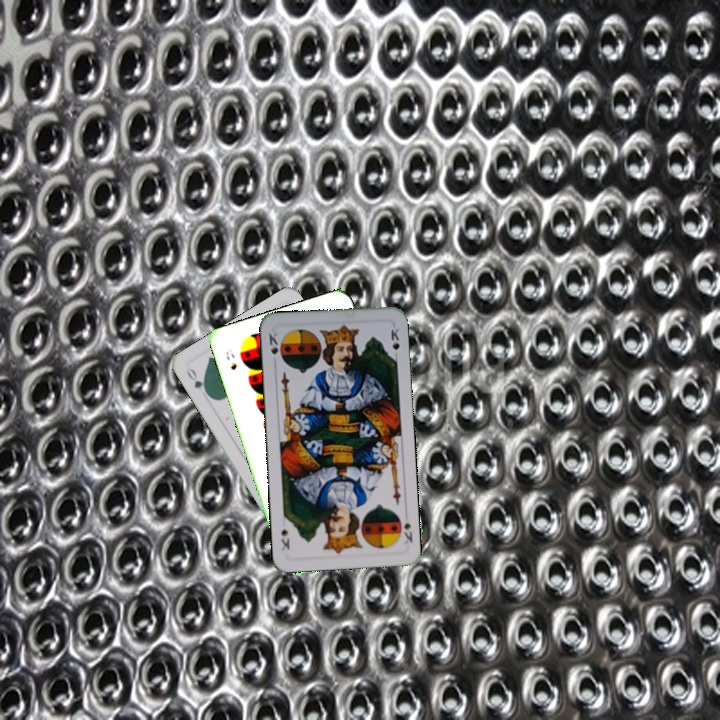GO: (182, 363, 212, 398)
S8: (222, 345, 240, 373)
SK: (265, 328, 281, 357), (399, 518, 415, 546)
